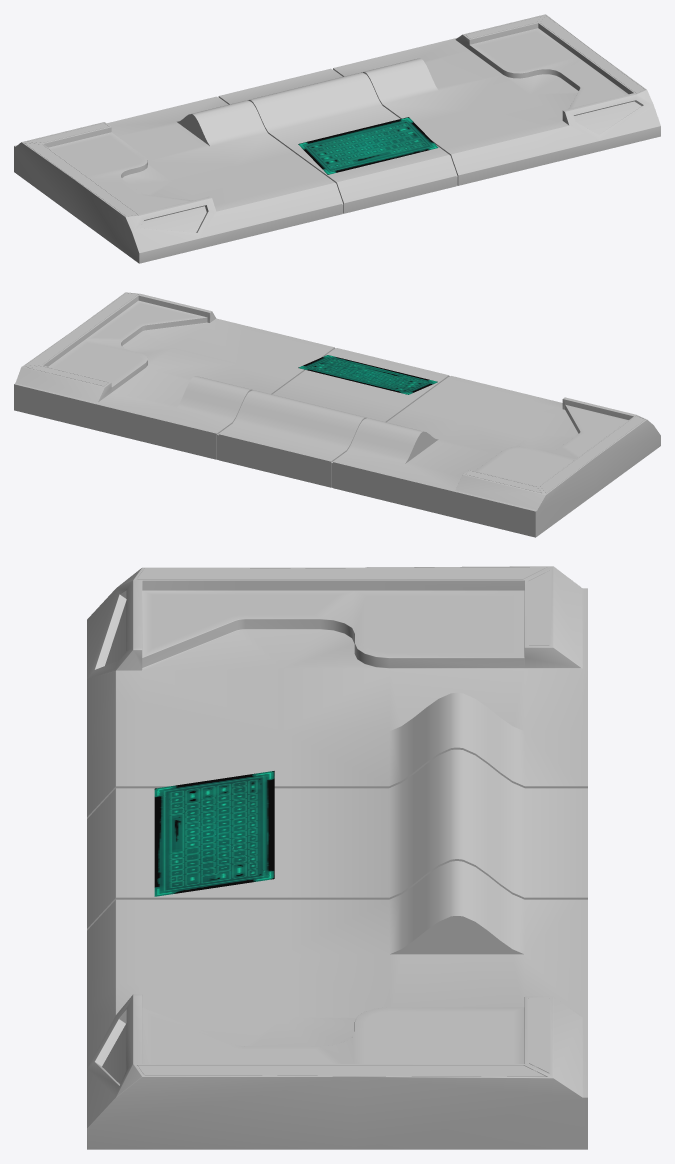
File: Desk.fbx
The picture shows the model from 3 angles, top to bottom: view 1: azimuth 30°, elevation 25°; view 2: azimuth 150°, elevation 25°; view 3: azimuth 270°, elevation 25°; orthographic projection. The views are drawn at different scales.
Parts seen in each view (by area): view 1: Plane.004, ar-keyboard-hologram-neon-green-smart-technology-device, Plane.009, Plane.010; view 2: Plane.004, Plane.009, Plane.010, ar-keyboard-hologram-neon-green-smart-technology-device; view 3: Plane.004, Plane.009, ar-keyboard-hologram-neon-green-smart-technology-device, Plane.010.
Boxes of the visible parts, x1,y1,x2,y2 form: Plane.004: [14, 14, 660, 263]; ar-keyboard-hologram-neon-green-smart-technology-device: [298, 117, 438, 174]; Plane.009: [51, 31, 572, 176]; Plane.010: [95, 63, 624, 213]; Plane.004: [14, 292, 660, 537]; Plane.009: [54, 343, 572, 486]; Plane.010: [94, 303, 625, 455]; ar-keyboard-hologram-neon-green-smart-technology-device: [298, 355, 437, 394]; Plane.004: [87, 566, 587, 1149]; Plane.009: [366, 595, 513, 1063]; ar-keyboard-hologram-neon-green-smart-technology-device: [154, 771, 274, 896]; Plane.010: [151, 594, 338, 1063].
Bounding box in the file's own units: 218 × 526 × 43.5.
